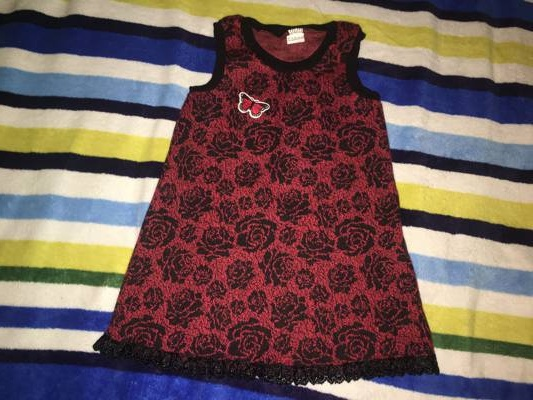Dress: (79, 17, 437, 386)
